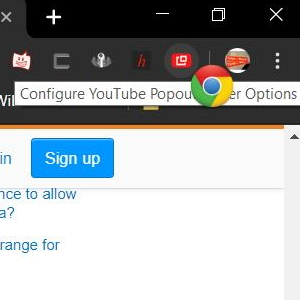chrome: (190, 64, 233, 108)
